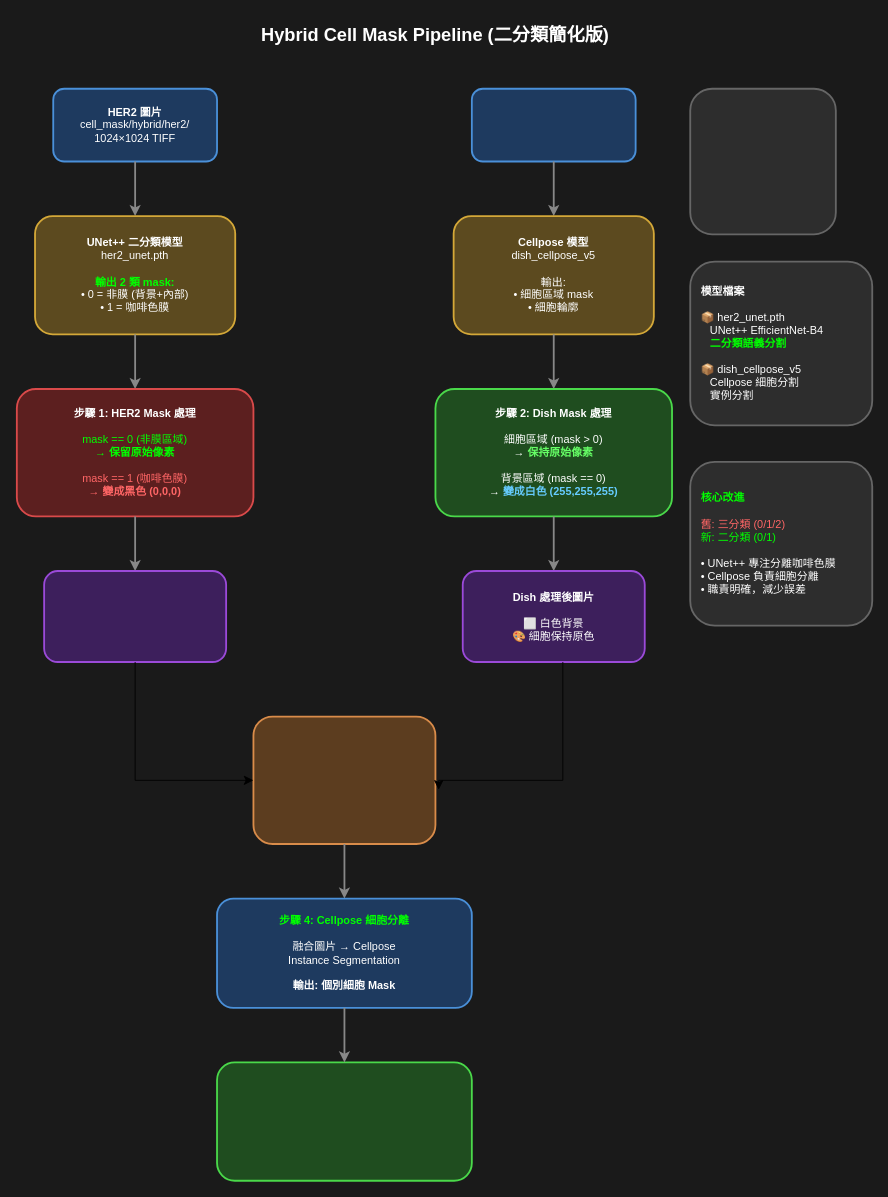
Some shapes in this 888 by 1197 pixel diagram are drawn without their labels. The shapes that lost their labels are listed below. From the top down, each one's centre as x and y in pixels, then its label:
point 553,124: Dish 圖片 cell_mask/hybrid/dish/ 1024×1024 TIFF
point 762,161: 圖例說明 🔵 藍色: 輸入資料 🟡 黃色: AI 模型 🔴 紅色: HER2 處理 🟢 綠色: Dish 處理 🟠 橘色: 疊合步驟 🟣 紫色: 中間結果
point 135,616: HER2 處理後圖片 🖤 咖啡色膜區域 → 黑色 🎨 非膜區域保持原色
point 344,779: 步驟 3: 圖片疊合 疊合策略: HER2 非黑色區域 → 優先顯示 其餘區域 → 顯示 Dish 圖片 (HER2 非膜區域覆蓋在 Dish 上)
point 344,1121: 最終輸出 📁 cell_mask/hybrid/output/ 🧫 個別細胞分離結果 📊 可用於紅黑點分析
